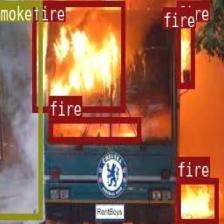fire: (31, 0, 124, 111), (48, 117, 140, 142), (176, 178, 217, 223), (176, 20, 194, 88), (162, 6, 174, 14)
smoke: (0, 0, 42, 218)
